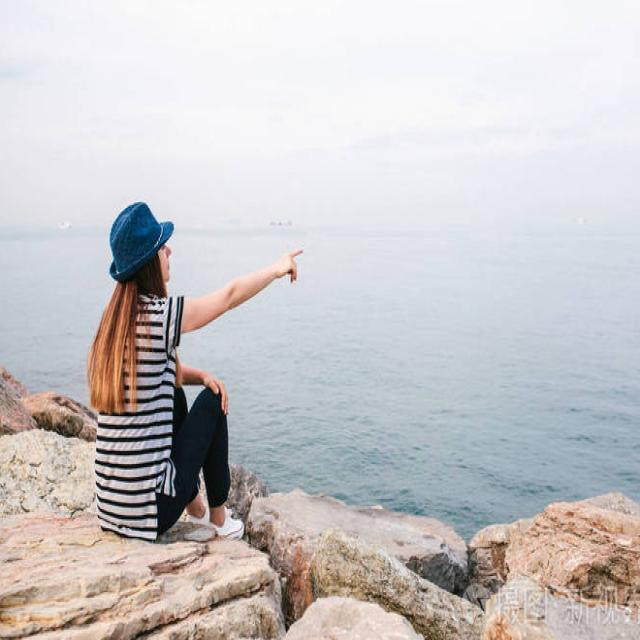reef: (320, 400, 624, 640)
